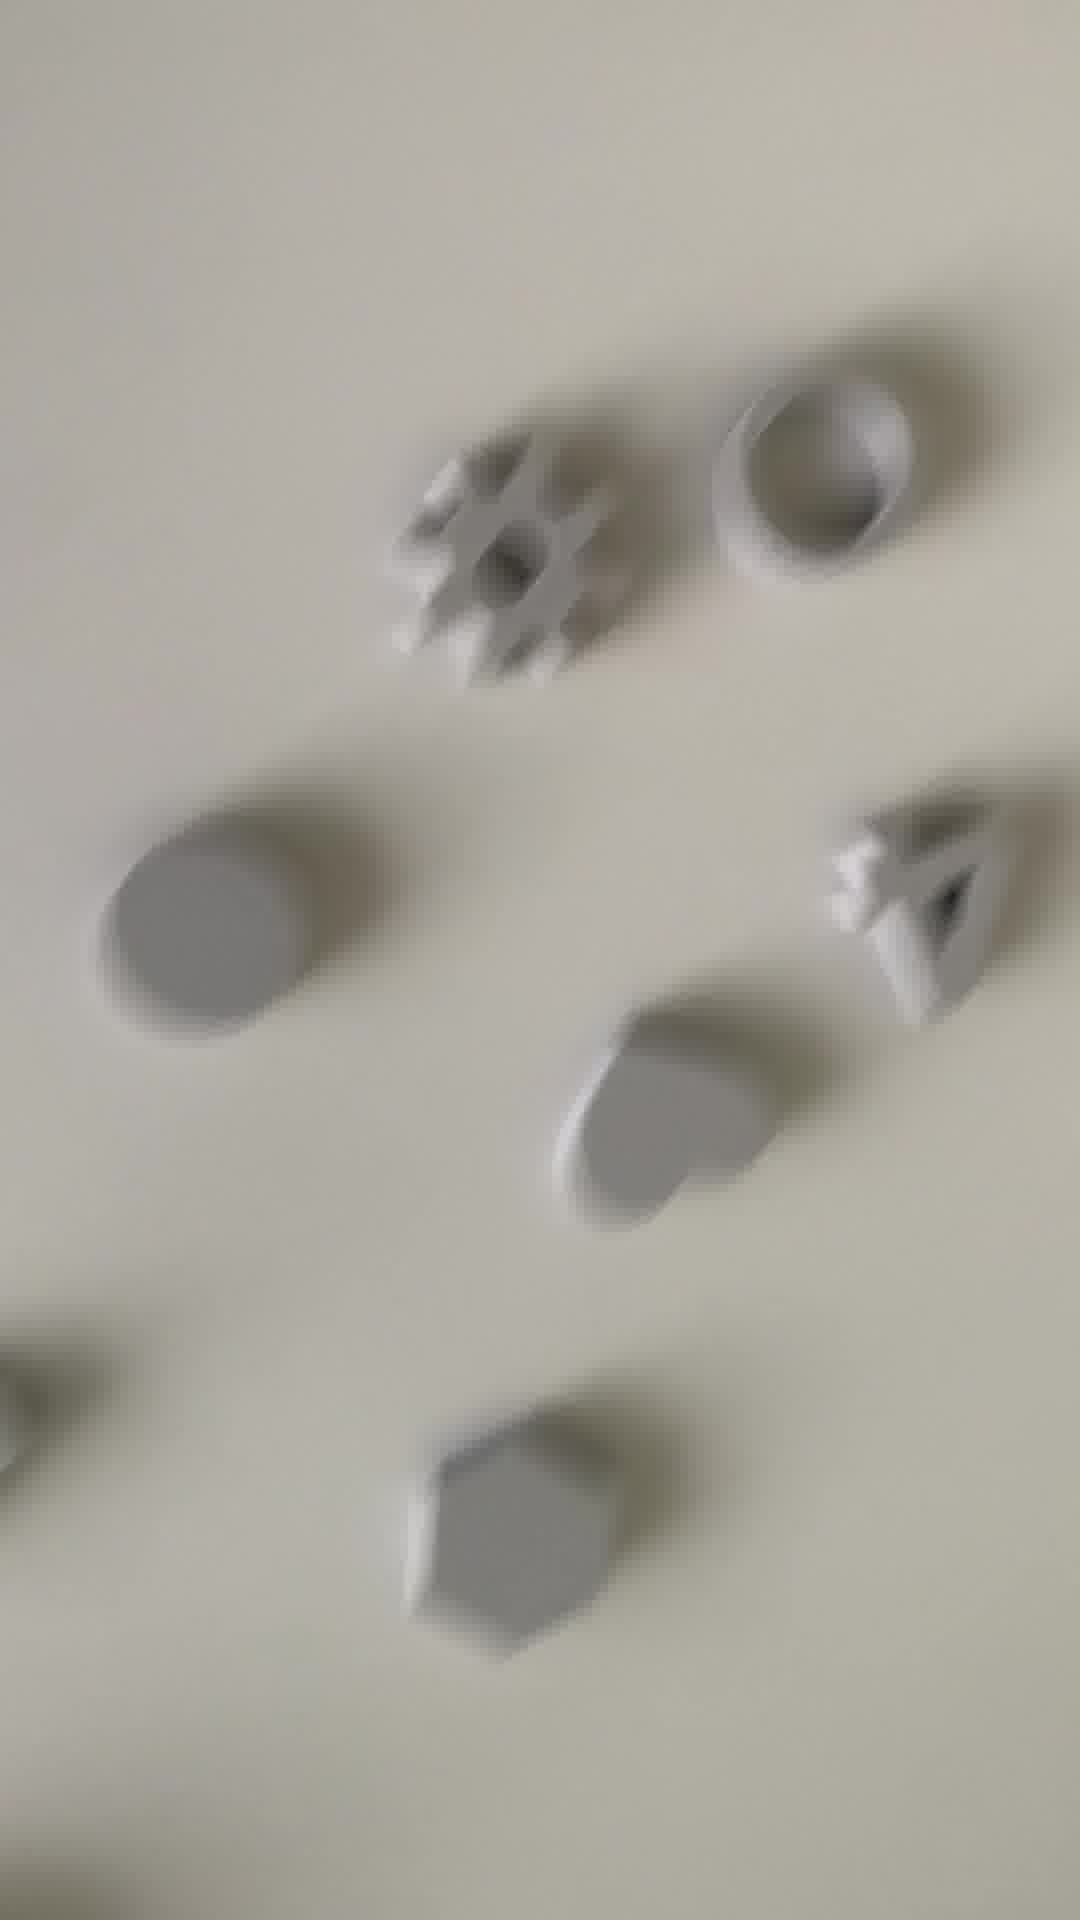Gray circle: (79, 820, 342, 1048)
Gray four: (835, 803, 1033, 1022)
Gray gear: (392, 434, 616, 699)
Gray heart: (571, 1034, 761, 1236)
Gray hexagon: (400, 1406, 636, 1677)
Gray ring: (702, 359, 924, 587)
